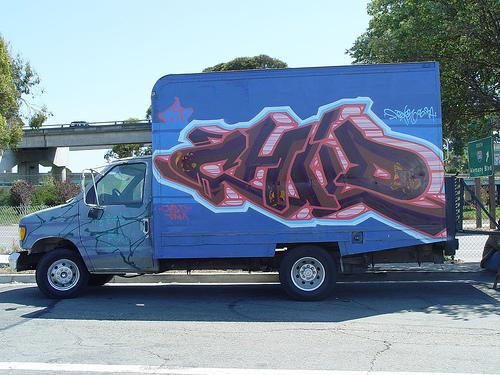truck: (8, 62, 459, 301)
